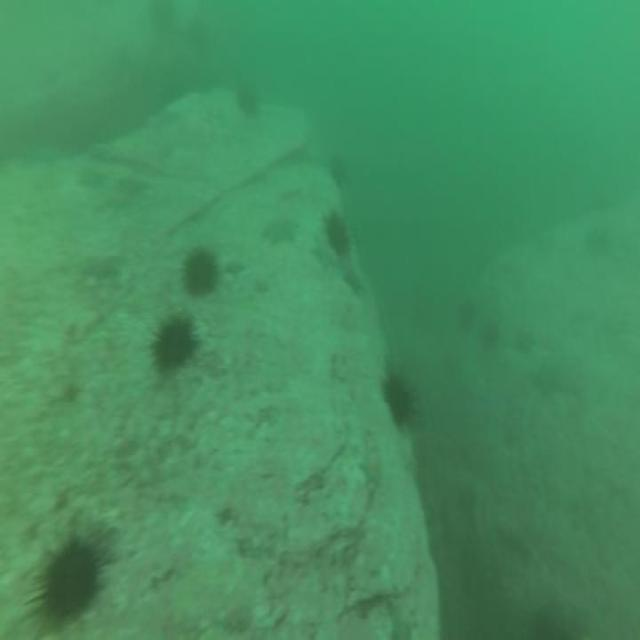echinus: (22, 515, 110, 635), (148, 311, 198, 381), (176, 242, 222, 303), (379, 365, 416, 436), (322, 204, 353, 265), (231, 76, 263, 118), (454, 289, 476, 329), (328, 150, 349, 187)
starfish: (76, 247, 128, 290), (260, 205, 302, 258), (115, 166, 153, 201), (340, 264, 366, 305), (78, 166, 112, 193)
